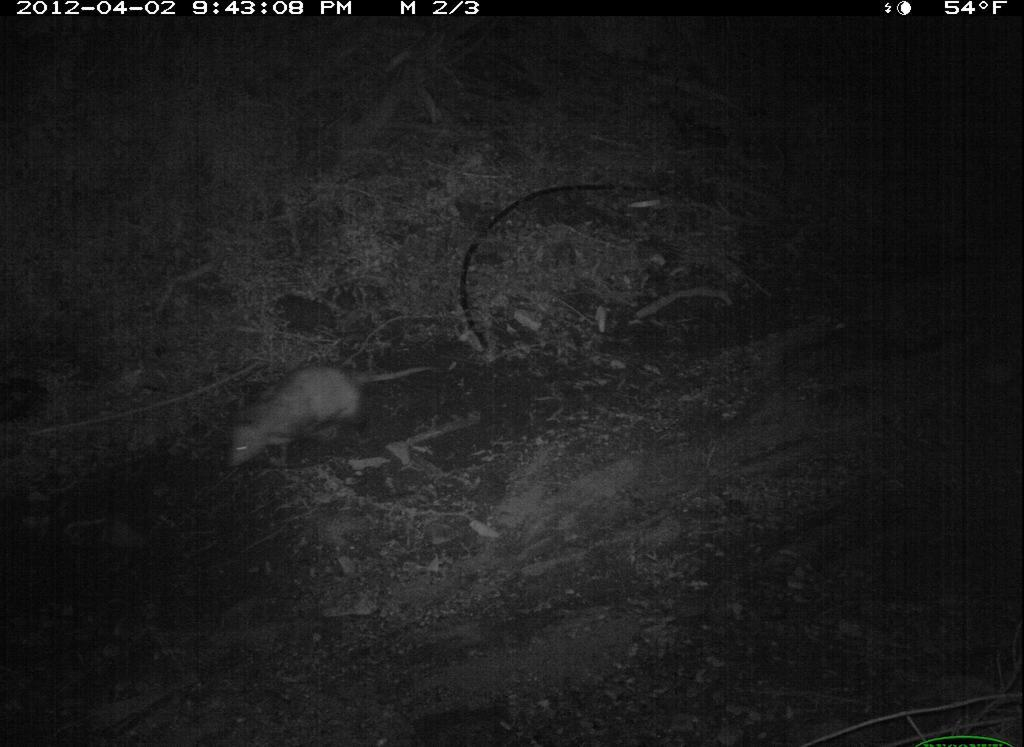opossum: (212, 336, 443, 482)
